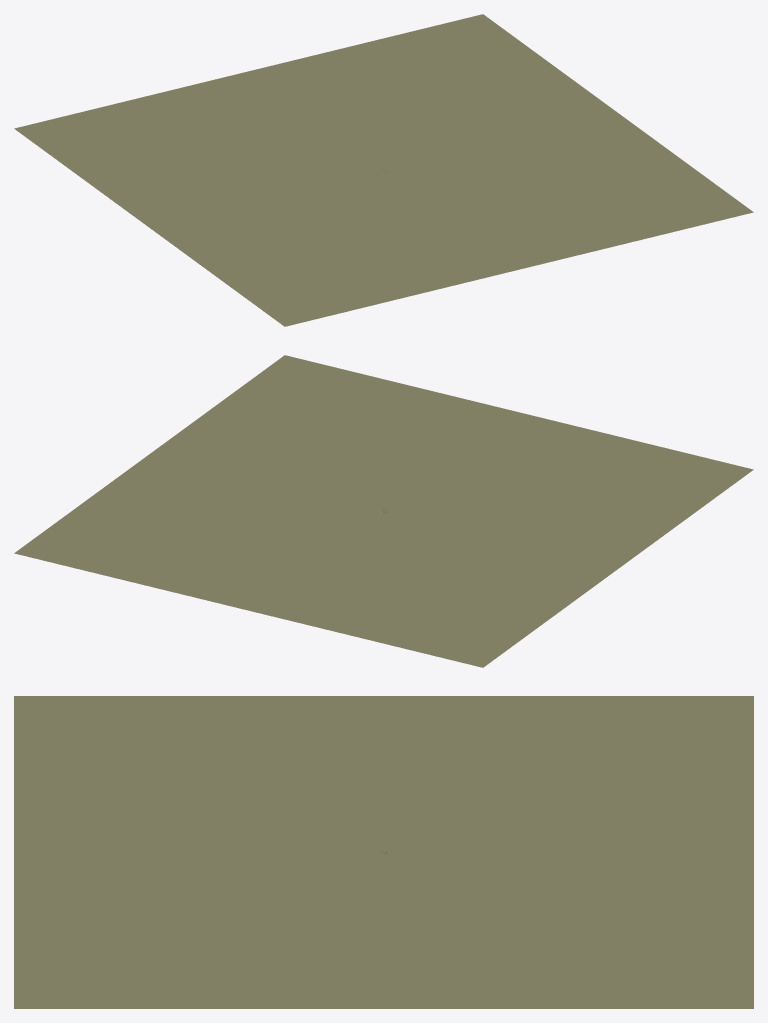
The model's file is purelake.glb.
The picture shows the model from 3 angles, top to bottom: view 1: azimuth 30°, elevation 25°; view 2: azimuth 150°, elevation 25°; view 3: azimuth 270°, elevation 25°; orthographic projection. The views are drawn at different scales.
Visible parts, largest first — view 1: Purelake_v2_stone; view 2: Purelake_v2_stone; view 3: Purelake_v2_stone.
Part boxes in pixels (<box>): Purelake_v2_stone: <box>14,14,753,326</box>; Purelake_v2_stone: <box>14,355,753,667</box>; Purelake_v2_stone: <box>14,696,753,1008</box>.
Size of the model in its own units: 20000 by 10.31 by 20000.
